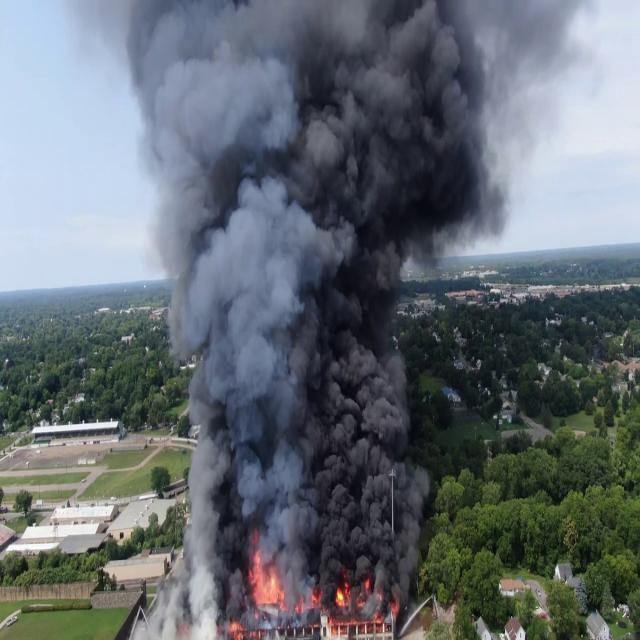Fire: (246, 551, 286, 626)
Smoke: (111, 0, 503, 597)
